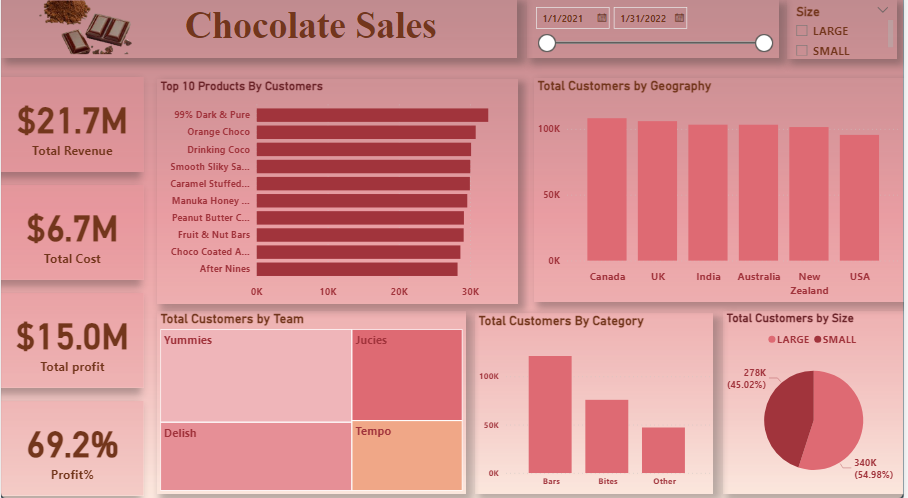

This screenshot's page, from the dashboard's own definition file:
{"tool":"powerbi","page":{"name":"Customers","canvas":[1280,720],"ordinal":2},"visuals":[{"type":"shape","box":[0,7.1,732.4,85.1],"z":0,"group":"g2"},{"type":"card","fields":{"Values":["sales.Total Amount"]},"box":[0,118.4,202.2,133.6],"z":0,"group":"g1"},{"type":"clusteredColumnChart","fields":{"Y":["sales.Total Customers"],"Category":["locations.Geo"]},"box":[755.5,120.6,524.4,317.8],"z":1000,"group":"g2"},{"type":"card","fields":{"Values":["sales.Profit%"]},"box":[0,577.9,202.2,133.6],"z":1000,"group":"g1"},{"type":"card","fields":{"Values":["sales.Total profit"]},"box":[0,424.7,202.2,133.6],"z":2000,"group":"g1"},{"type":"treemap","title":"Total Customers by Team","fields":{"Group":["people.Team"],"Values":["sales.Total Customers"]},"box":[221,450.7,437.7,259.7],"z":2000,"group":"g2"},{"type":"card","fields":{"Values":["sales.Total Cost"]},"box":[0,271.6,202.2,133.6],"z":3000,"group":"g1"},{"type":"clusteredColumnChart","title":"Total Customers By Category","fields":{"Category":["products.Category"],"Y":["sales.Total Customers"]},"box":[671.7,453.6,338,256.8],"z":3000,"group":"g2"},{"type":"slicer","fields":{"Values":["sales.Date"]},"box":[745.5,9.9,357.2,82.2],"z":4000},{"type":"group","id":"g1","title":"Group 1","box":[0,118.4,202.2,593.1],"z":4000,"group":"g2"},{"type":"slicer","fields":{"Values":["products.Size"]},"box":[1114,9.9,155.9,83.6],"z":5000},{"type":"textbox","box":[231,9.9,429.4,83.6],"z":7000},{"type":"image","box":[14.2,5.7,216.9,86.5],"z":8000},{"type":"pieChart","fields":{"Category":["products.Size"],"Y":["sales.Total Customers"]},"box":[1022.7,450.7,257.1,259.7],"z":9000,"group":"g2"},{"type":"barChart","title":"Top 10 Products By Customers","fields":{"Category":["products.Product"],"Y":["sales.Total Customers"]},"box":[221,121.6,511.4,319.3],"z":10000,"group":"g2"},{"type":"group","id":"g2","title":"Group 2","box":[0,7.1,1279.8,704.4],"z":10001}]}

Visuals, with their boxes in screenshot pixels (x1, y1, x2, y2), scaled from the page's 1280x720 canvas onto the 908x498 screenshot:
shape: 0,5,520,64
card - sales.Total Amount: 0,82,143,174
clusteredColumnChart - sales.Total Customers x locations.Geo: 536,83,907,303
card - sales.Profit%: 0,400,143,492
card - sales.Total profit: 0,294,143,386
"Total Customers by Team" treemap: 157,312,467,491
card - sales.Total Cost: 0,188,143,280
"Total Customers By Category" clusteredColumnChart: 476,314,716,491
slicer - sales.Date: 529,7,782,64
"Group 1" group: 0,82,143,492
slicer - products.Size: 790,7,901,65
textbox: 164,7,468,65
image: 10,4,164,64
pieChart - products.Size x sales.Total Customers: 725,312,907,491
"Top 10 Products By Customers" barChart: 157,84,520,305
"Group 2" group: 0,5,907,492
